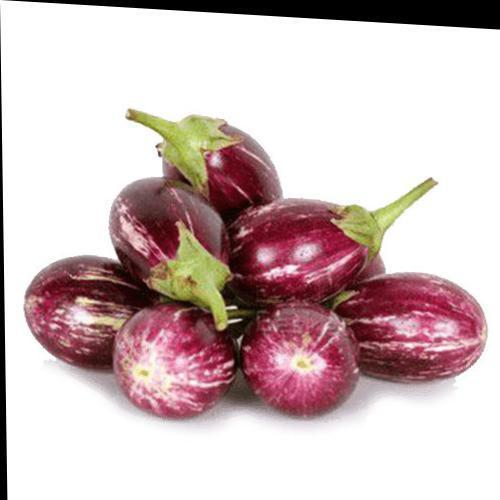eggplant: (67, 106, 437, 434)
